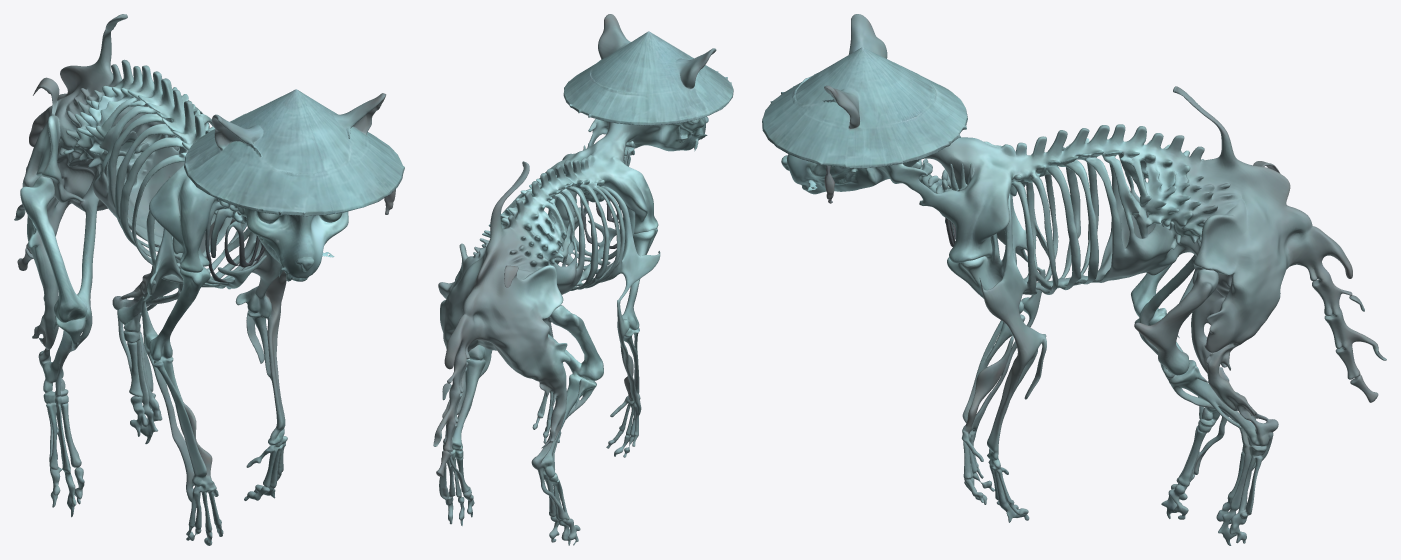
The model's file is vong-linh-meo-hoang.glb.
3 views of the same model, side by side, from view 1: azimuth 30°, elevation 25°; view 2: azimuth 150°, elevation 25°; view 3: azimuth 270°, elevation 25° (orthographic). The views are drawn at different scales.
Visible parts, largest first — view 1: tripo_node_26ae3e11-047e-4b2b-a65f-5aaa7eb24f29; view 2: tripo_node_26ae3e11-047e-4b2b-a65f-5aaa7eb24f29; view 3: tripo_node_26ae3e11-047e-4b2b-a65f-5aaa7eb24f29.
Boxes of the visible parts, x1=… form: tripo_node_26ae3e11-047e-4b2b-a65f-5aaa7eb24f29: x1=14, y1=14, x2=404, y2=545; tripo_node_26ae3e11-047e-4b2b-a65f-5aaa7eb24f29: x1=433, y1=14, x2=733, y2=545; tripo_node_26ae3e11-047e-4b2b-a65f-5aaa7eb24f29: x1=762, y1=14, x2=1386, y2=545.
Bounding box in the file's own units: 0.2863 × 0.7608 × 0.8627.
Materials: 1 (1 with a texture image).
